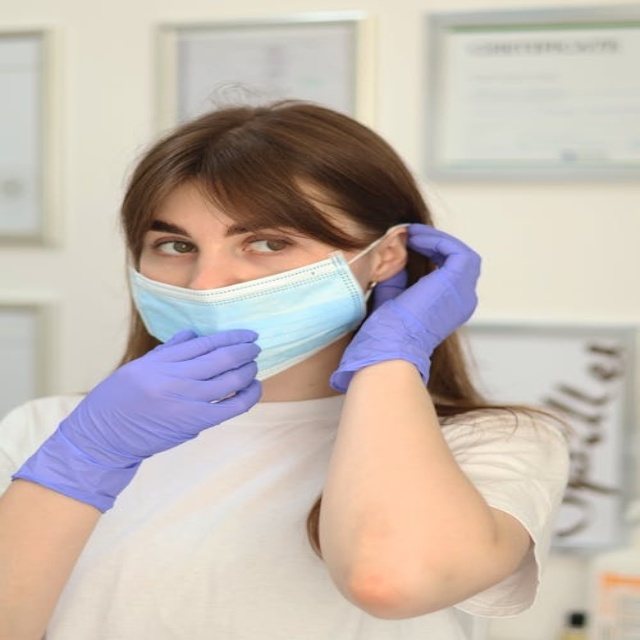Guantes: (12, 326, 268, 513), (330, 222, 483, 394)
Mascara: (128, 228, 381, 382)
Sin_gafas: (242, 237, 293, 254), (151, 238, 199, 256)
